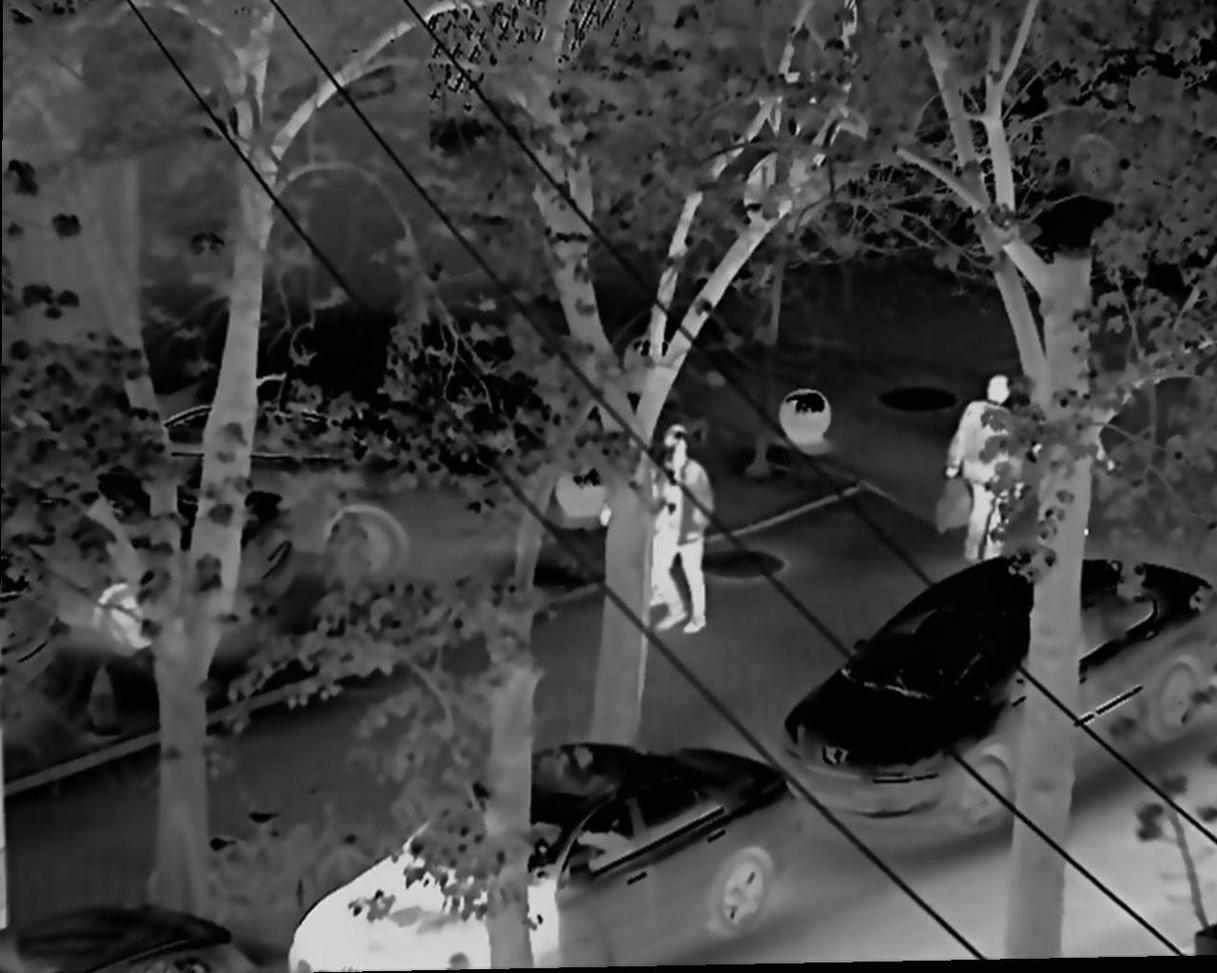person: (647, 420, 711, 632), (947, 370, 1013, 568)
